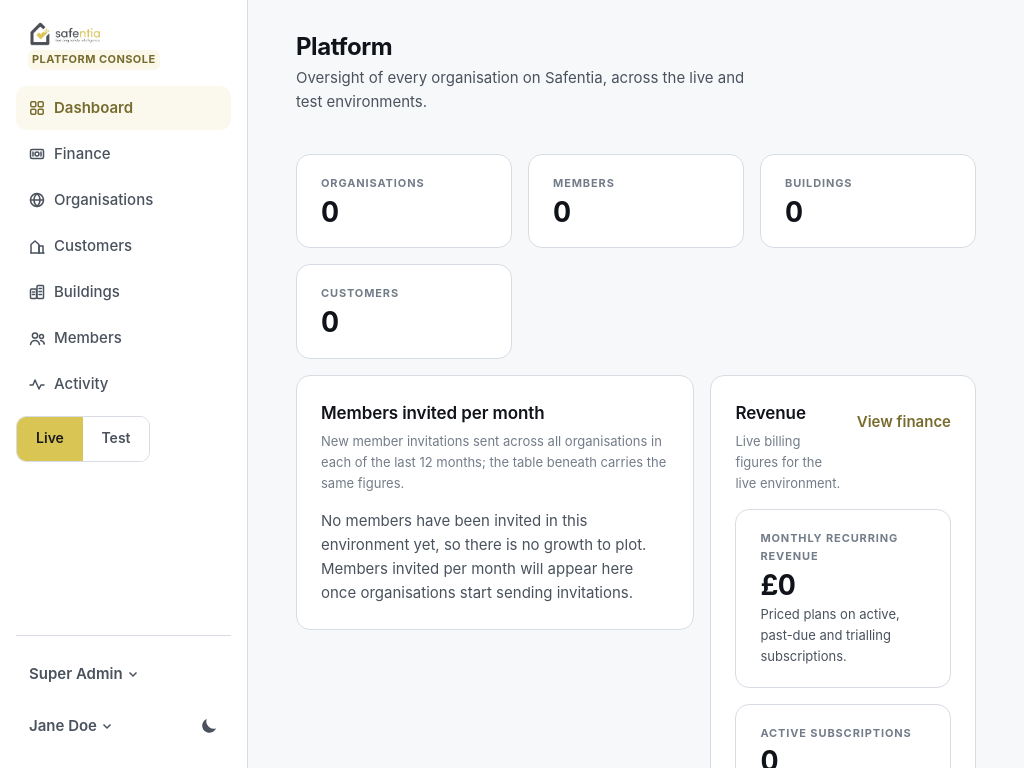
Test: ConsoleGate › hides the tour replay from the account menu in platform mode
What coordinates should you click on to do the following:
click the button "Jane Doe"
I would click on:
 (71, 726)
Its box is [16, 704, 126, 748].
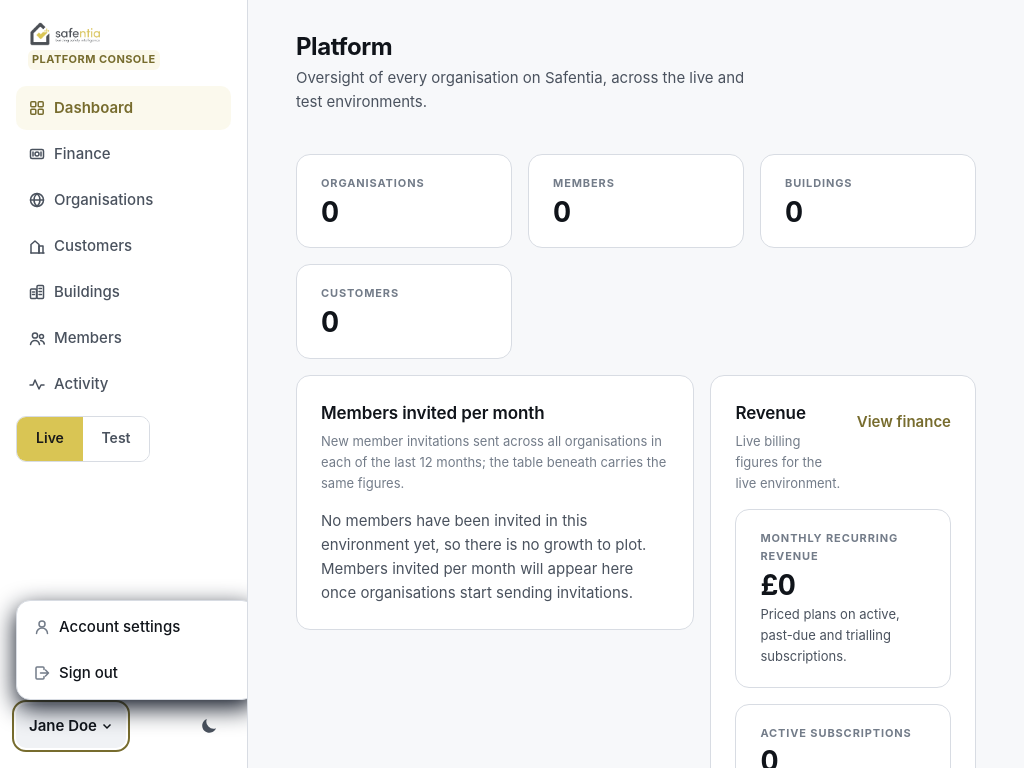
Expected: the link "Account settings" is shown, [33, 617, 180, 636]
